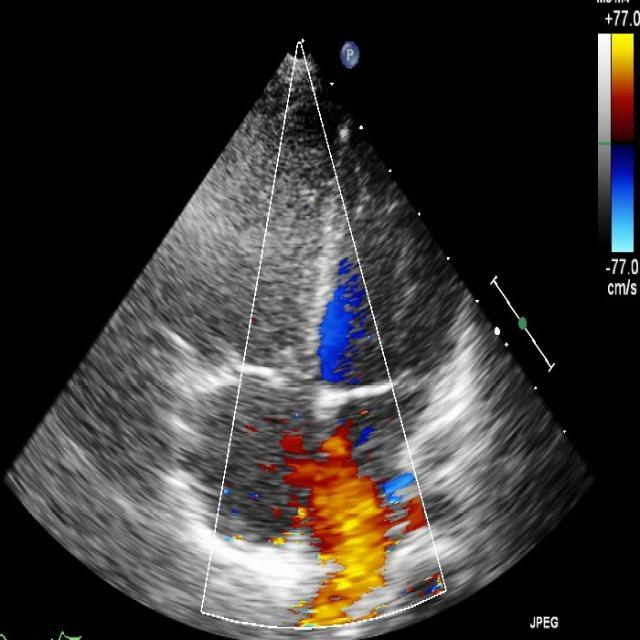ASDType2: (283, 408, 427, 630)
